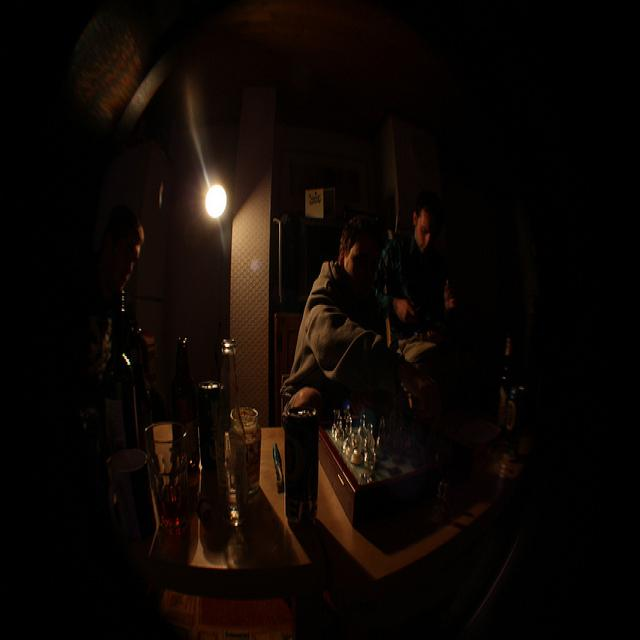Bottle: (152, 336, 205, 474), (198, 369, 231, 530), (218, 313, 244, 417)
Cup: (275, 394, 328, 537), (493, 356, 533, 488), (227, 402, 263, 505)
People: (28, 133, 187, 489), (299, 186, 397, 404), (395, 180, 456, 372)
